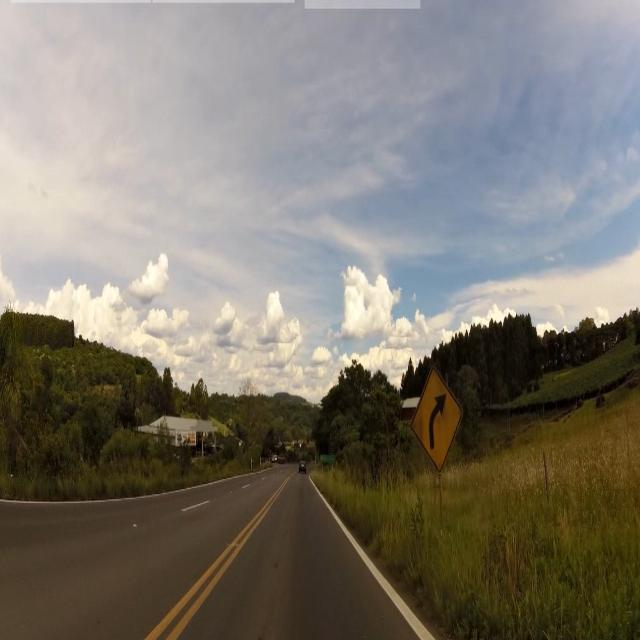A-2b: (409, 359, 466, 471)
